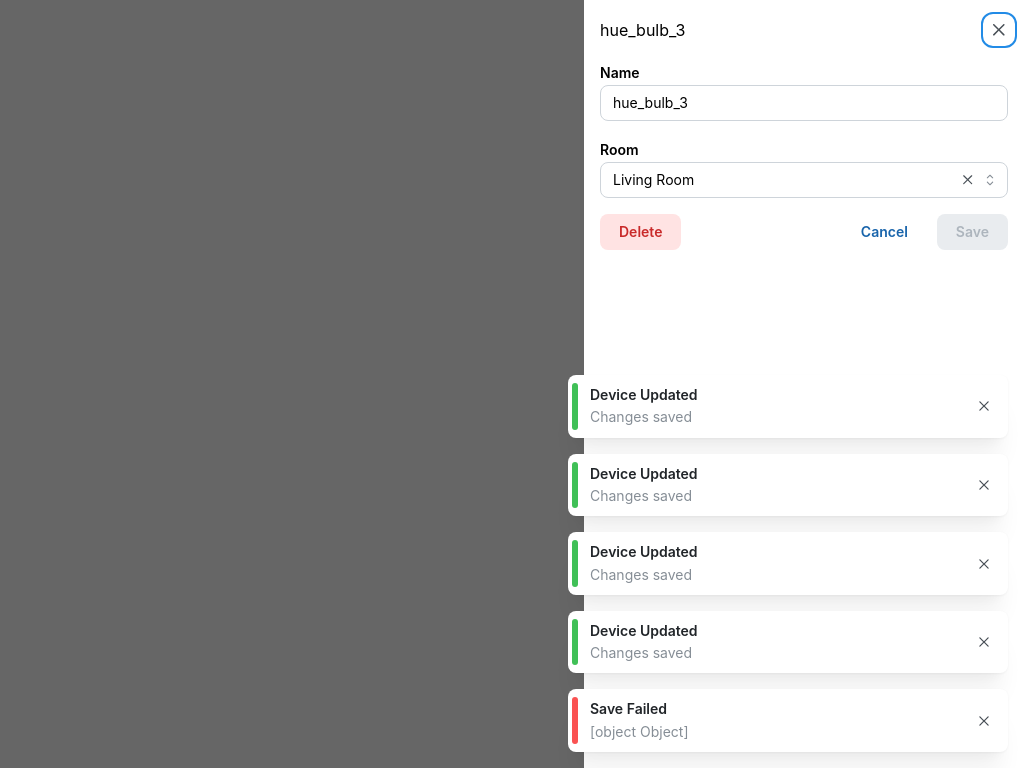
Test case: EditDeviceDrawer › keeps the drawer open when delete fails
Click the button "Delete" at (641, 232), box [600,214,681,250]
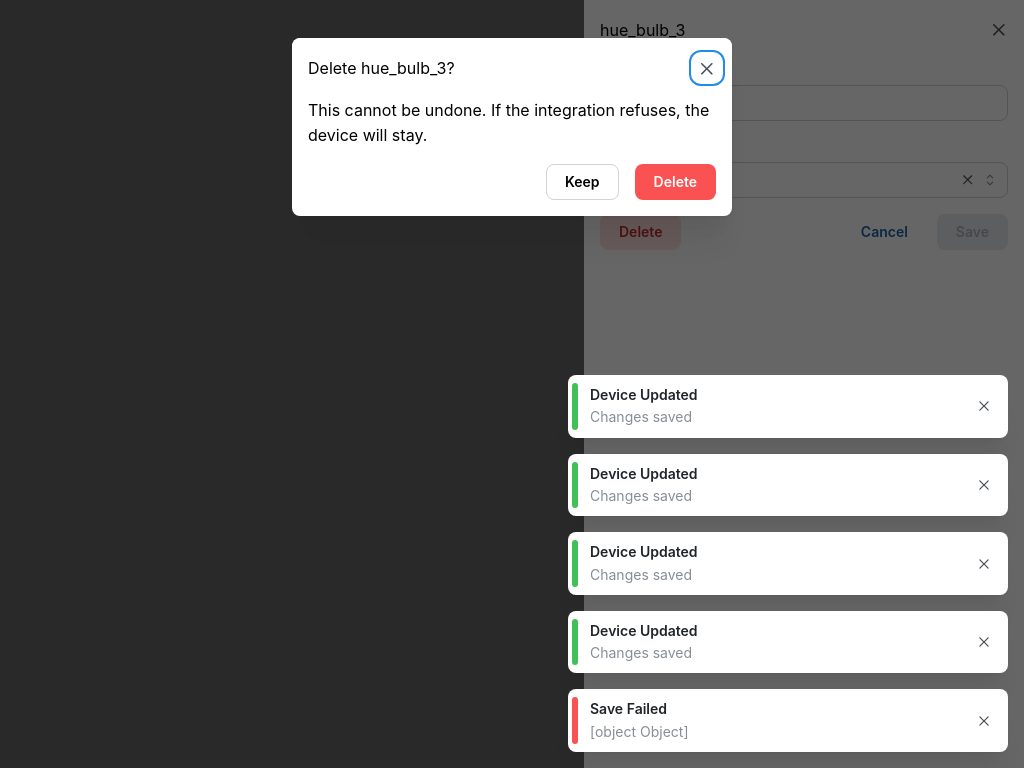
Click the button "Delete" at (675, 182), box [635,164,716,200]
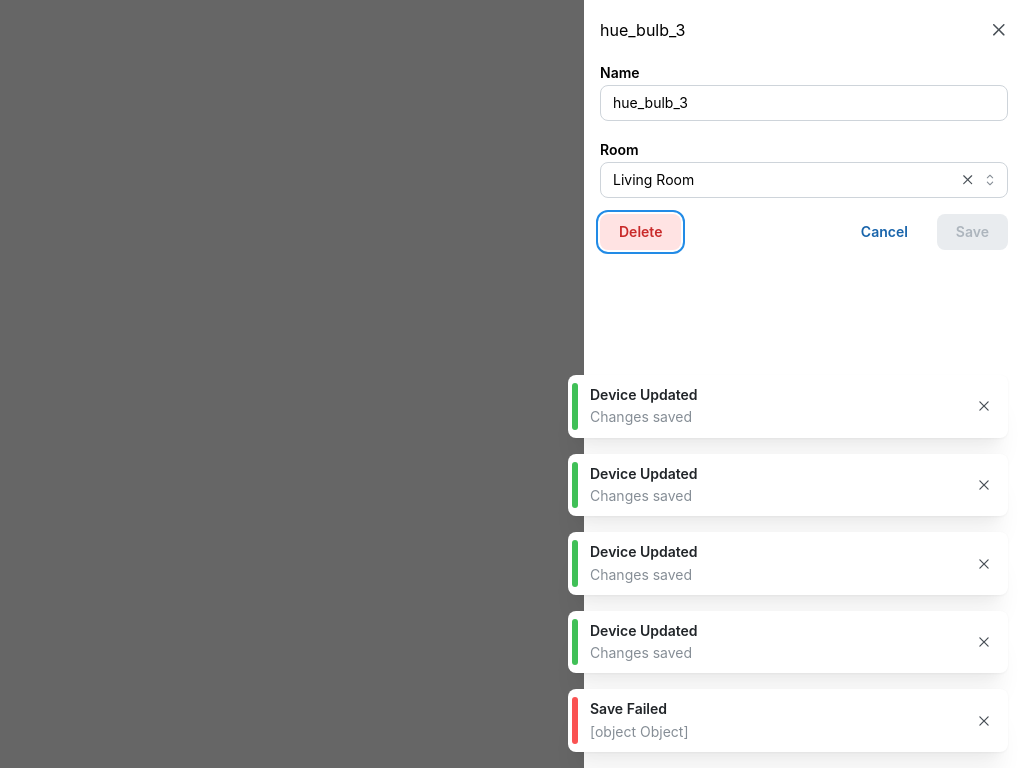
Now the heading "Delete hue_bulb_3?" is gone
